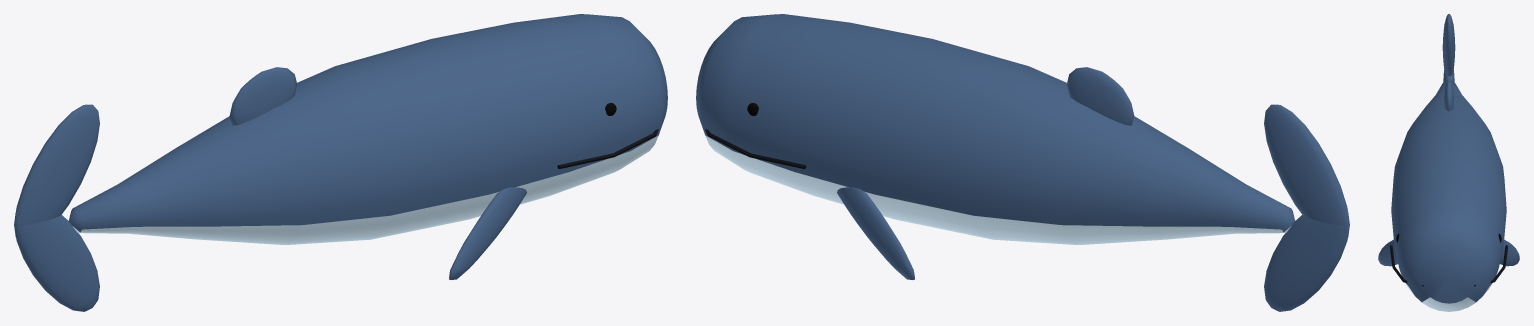
Rendered from sea.glb.
3 views of the same model, side by side, from view 1: azimuth 30°, elevation 25°; view 2: azimuth 150°, elevation 25°; view 3: azimuth 270°, elevation 25° (orthographic). The views are drawn at different scales.
Parts seen in each view (by area): view 1: Wal_Haut, Wal_Bauch, Wal_Maul; view 2: Wal_Haut, Wal_Bauch, Wal_Maul; view 3: Wal_Haut, Wal_Bauch, Wal_Maul.
Boxes of the visible parts, box(x1,y1,x2,y2) form: Wal_Haut: box(14, 14, 667, 311); Wal_Bauch: box(72, 135, 658, 244); Wal_Maul: box(557, 129, 658, 169); Wal_Haut: box(696, 14, 1349, 311); Wal_Bauch: box(705, 135, 1291, 244); Wal_Maul: box(705, 129, 806, 169); Wal_Haut: box(1378, 14, 1519, 303); Wal_Bauch: box(1405, 282, 1492, 311); Wal_Maul: box(1389, 245, 1508, 286).
Size of the model in its own units: 3.92 by 1.27 by 1.13.
